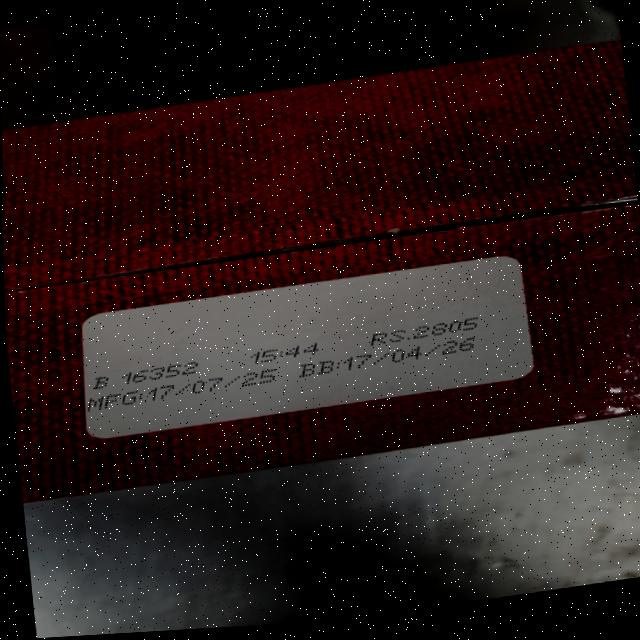BB: (299, 335, 483, 378)
Batch: (87, 361, 205, 391)
MFG: (85, 368, 280, 412)
RS: (368, 316, 484, 346)
TimeStamp: (247, 341, 321, 365)
